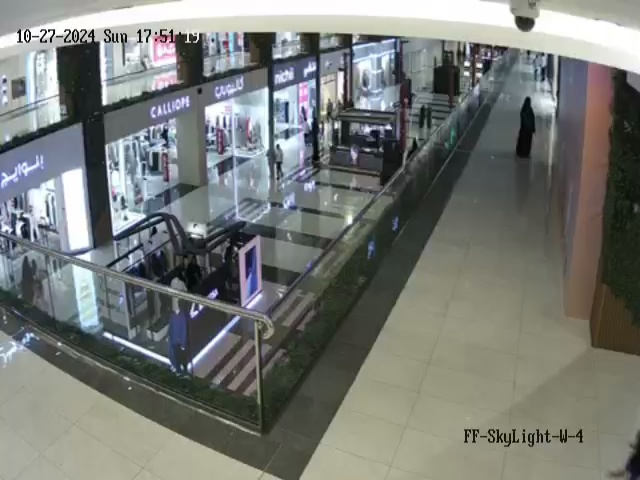female: (15, 257, 47, 307), (417, 98, 432, 139), (408, 131, 420, 158)
male: (273, 141, 290, 183), (325, 97, 335, 129)
other: (162, 286, 195, 389), (516, 96, 536, 159)
